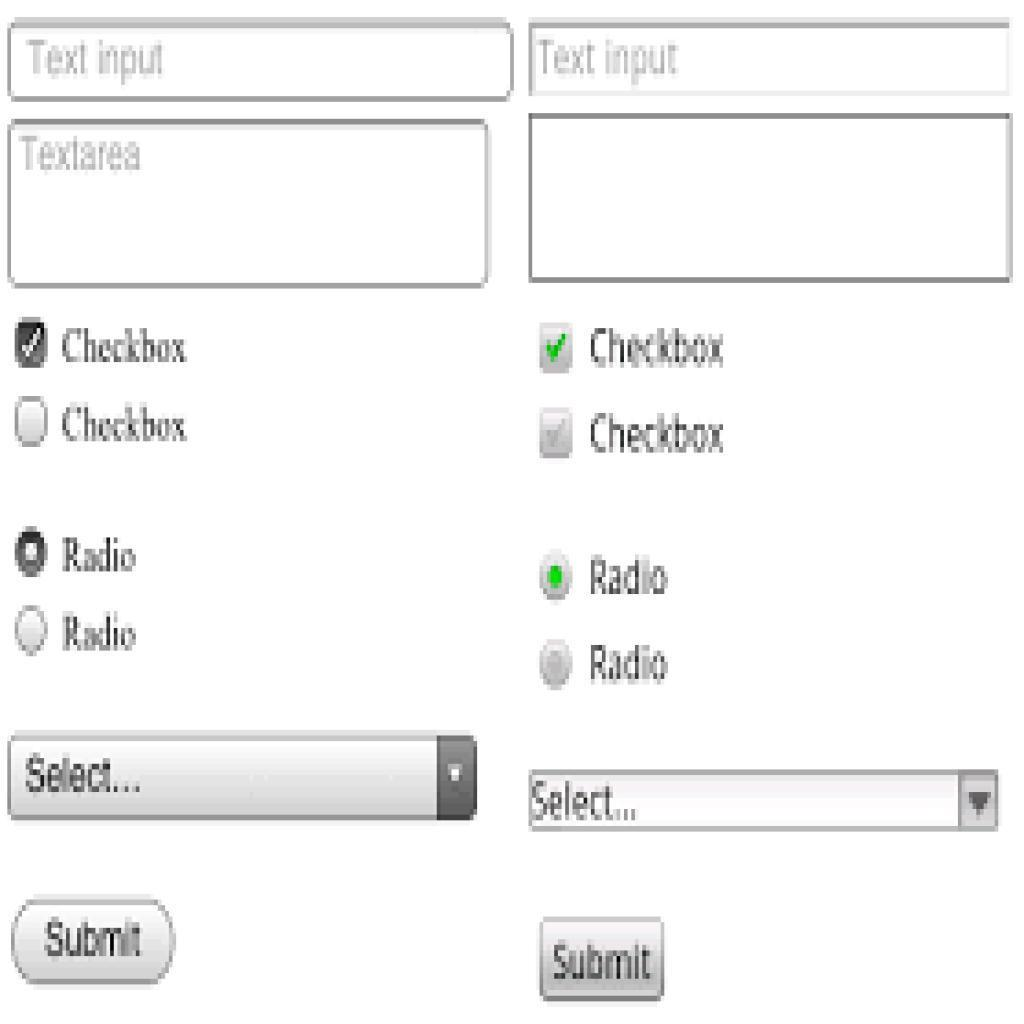button: (12, 897, 178, 985), (540, 917, 663, 1003)
checkbox: (540, 323, 575, 375), (539, 408, 574, 459), (18, 321, 51, 367)
dropdown: (8, 734, 477, 819), (529, 772, 998, 831)
input: (12, 24, 513, 96), (532, 26, 1009, 94)
radio: (13, 392, 50, 452), (537, 550, 577, 605), (13, 526, 49, 581), (15, 602, 51, 656), (540, 638, 576, 689)
